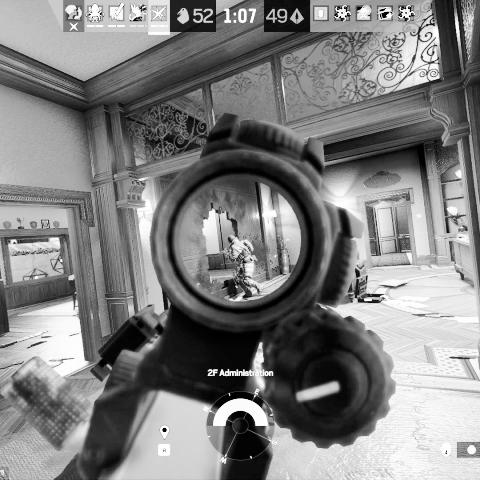Character: (220, 233, 268, 300)
Head: (226, 234, 236, 246)
